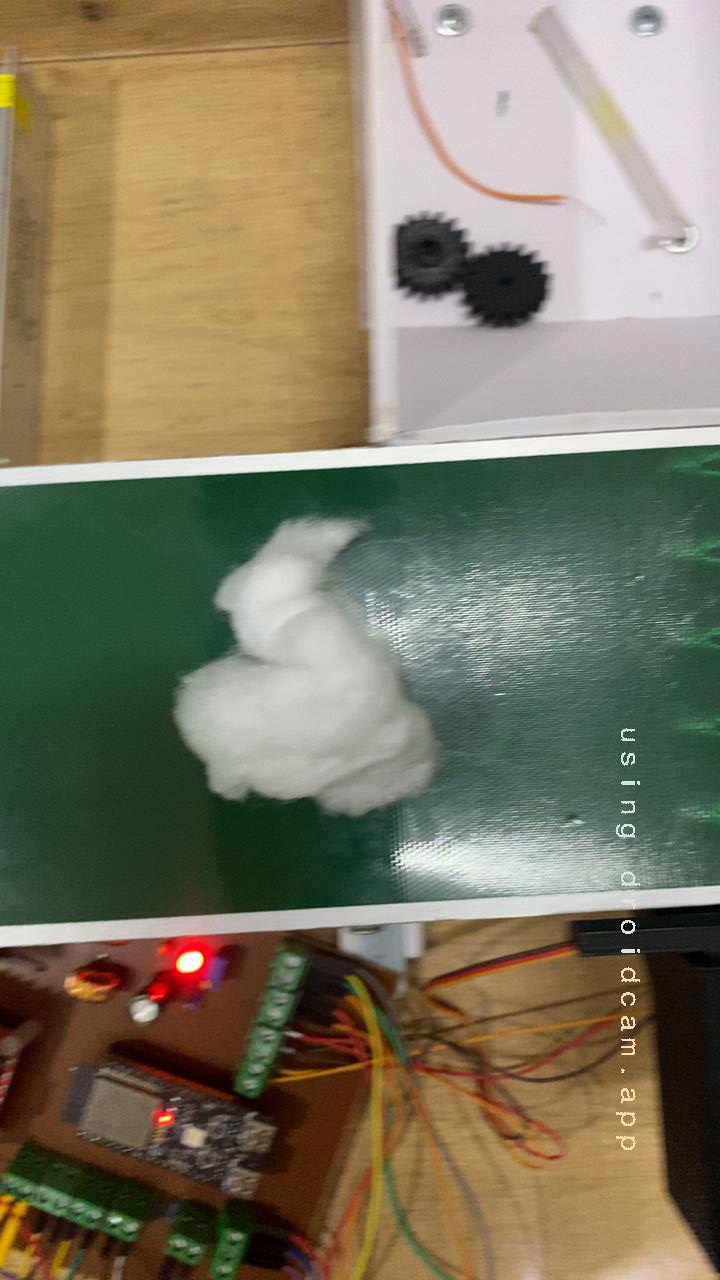cotton: (143, 495, 459, 845)
